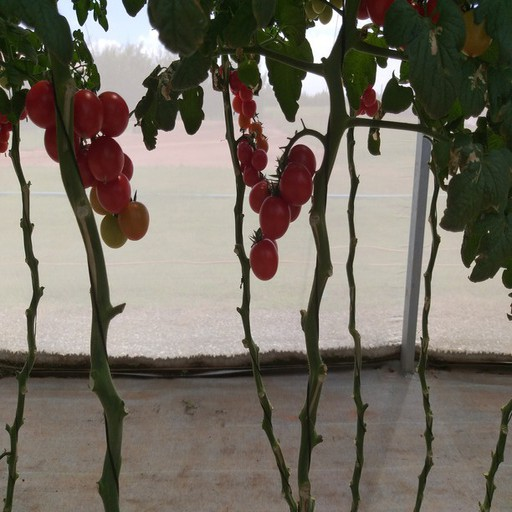green tomato bunch: (298, 1, 347, 24)
red tomato bunch: (25, 83, 149, 248), (248, 145, 316, 281), (218, 65, 268, 151), (359, 1, 473, 31), (343, 74, 382, 116), (235, 141, 271, 185)
